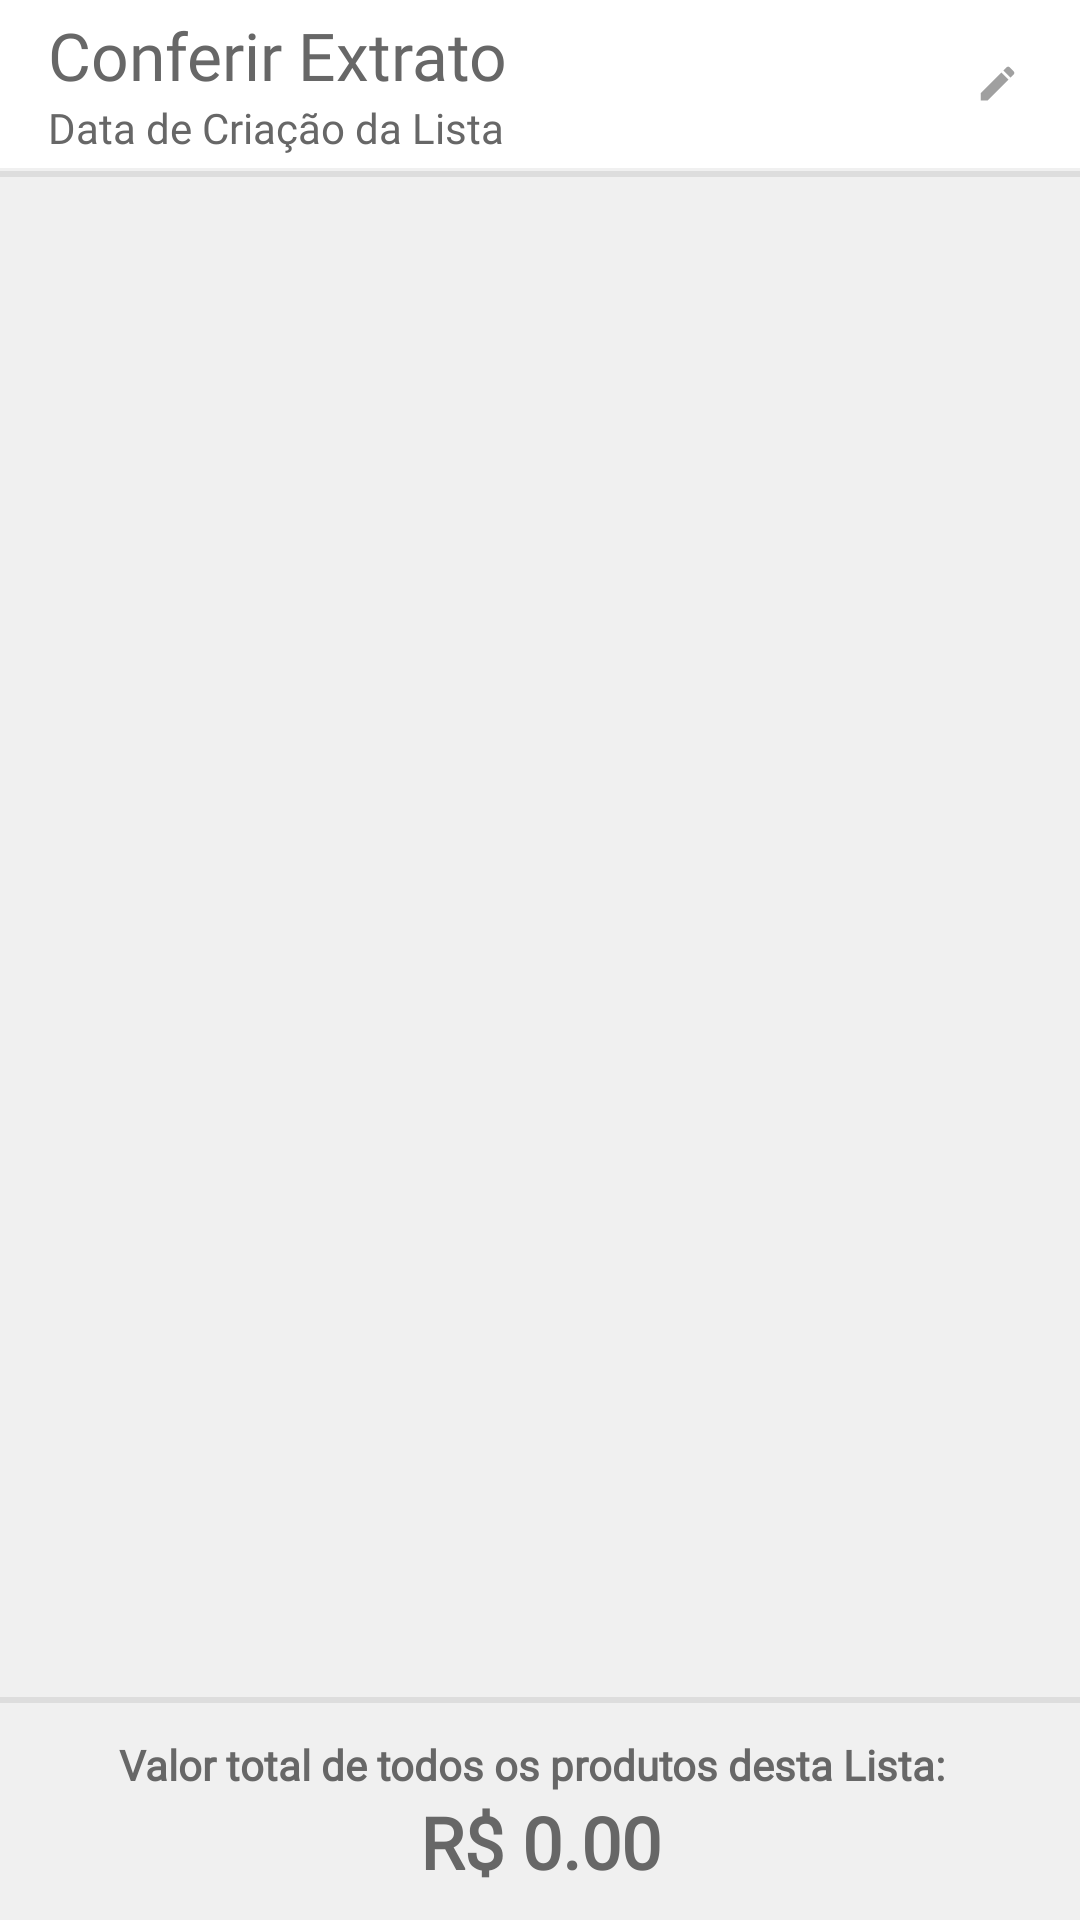

Point at icon controls on the screen. Image size 1080*1920, points as (x=x, y=y).
Editar Lista: (x=997, y=83)
